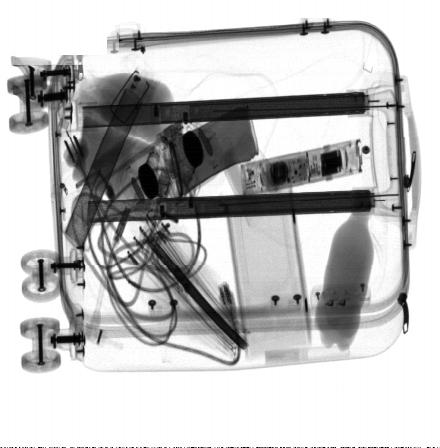Baton: (240, 139, 363, 199)
